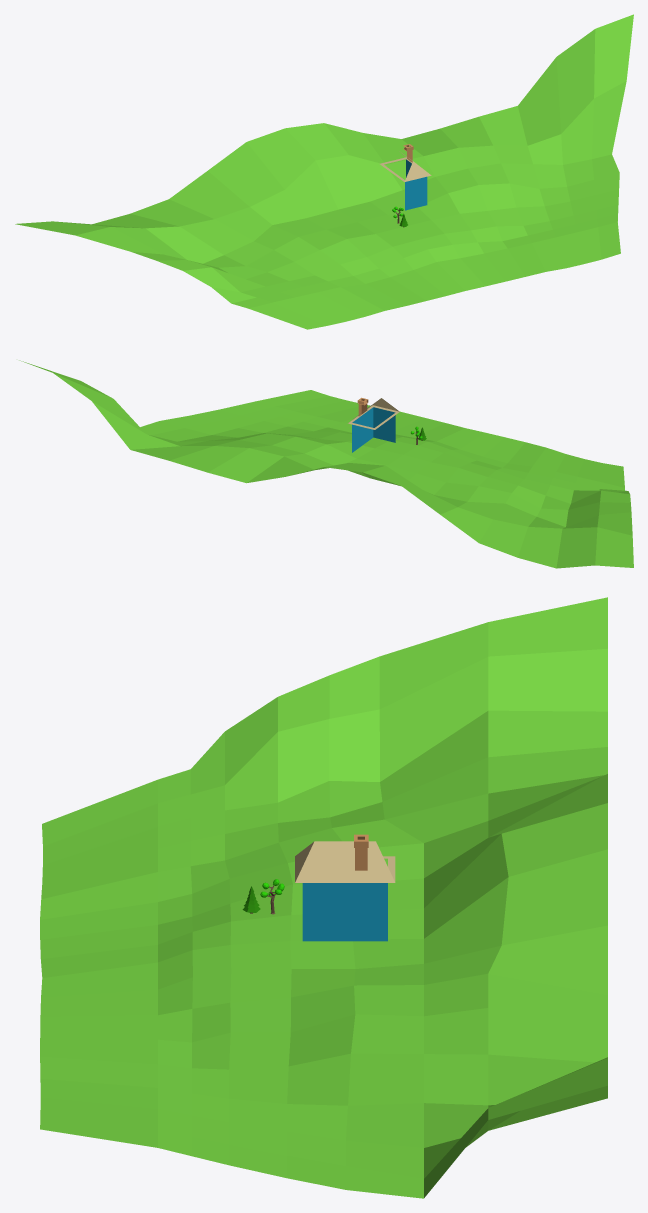
File: trees.fbx
The picture shows the model from 3 angles, top to bottom: view 1: azimuth 30°, elevation 25°; view 2: azimuth 150°, elevation 25°; view 3: azimuth 270°, elevation 25°; orthographic projection. The views are drawn at different scales.
Parts seen in each view (by area): view 1: Plane, House; view 2: Plane, House; view 3: Plane, House.
Part boxes in pixels (<box>): Plane: <box>15,14,633,329</box>; House: <box>380,151,431,210</box>; Plane: <box>19,360,633,568</box>; House: <box>348,398,399,452</box>; Plane: <box>40,597,607,1198</box>; House: <box>295,841,395,941</box>.
Size of the model in its own units: 74.32 by 11.37 by 29.48.
